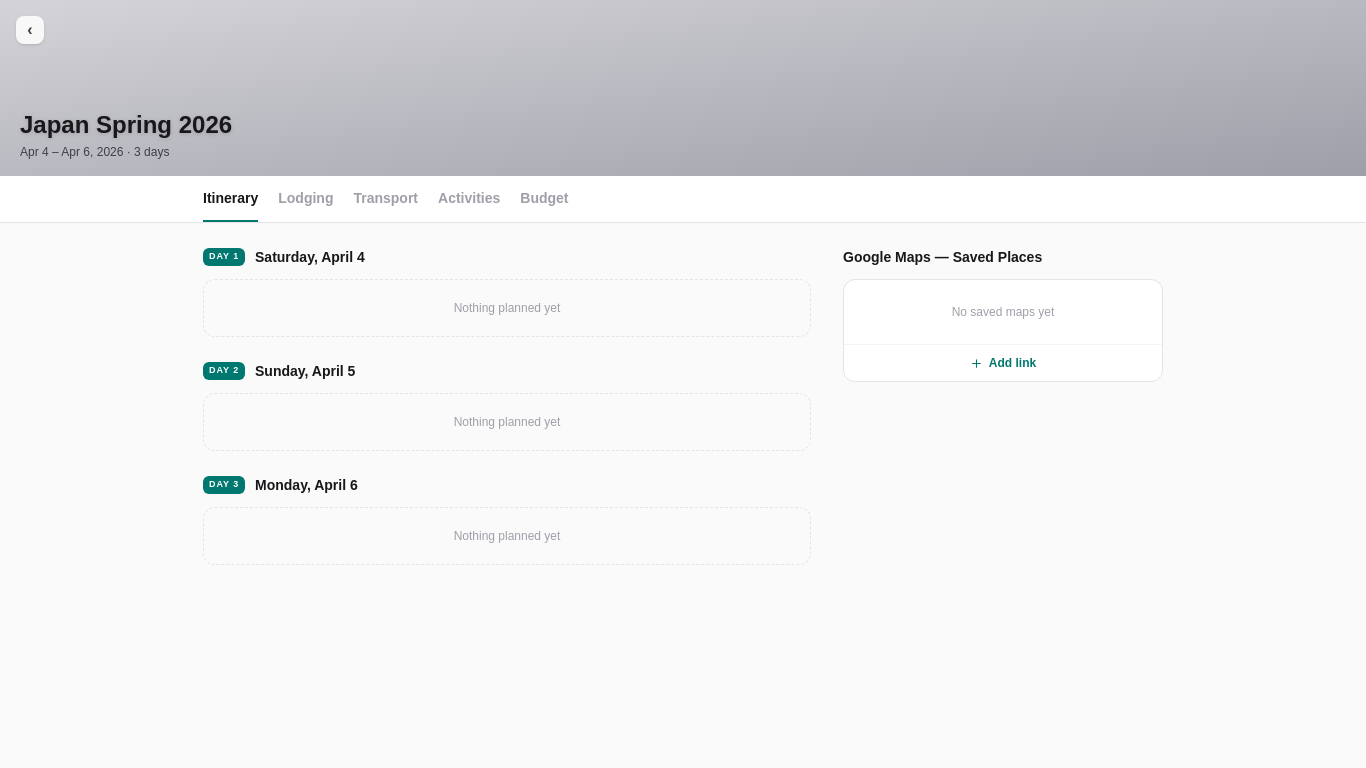
TripPage — saved map links › rejects a non-https url with an inline error
Check: the text "No saved maps yet" is shown, box [952, 305, 1054, 319]
Click the button "Add link" at [1003, 362], box [844, 344, 1162, 381]
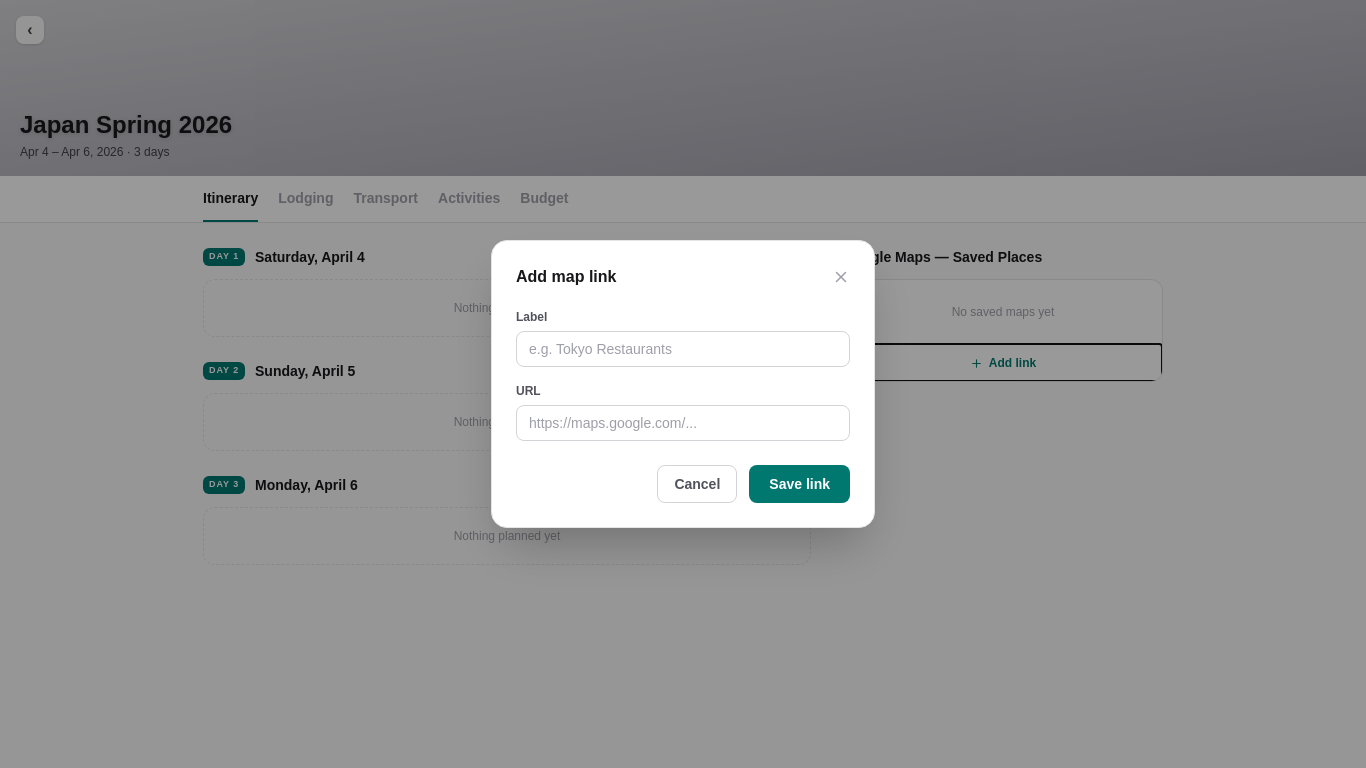
Type "Bad Link" into the field with placeholder "e.g. Tokyo Restaurants" at [683, 349], box [516, 331, 850, 367]
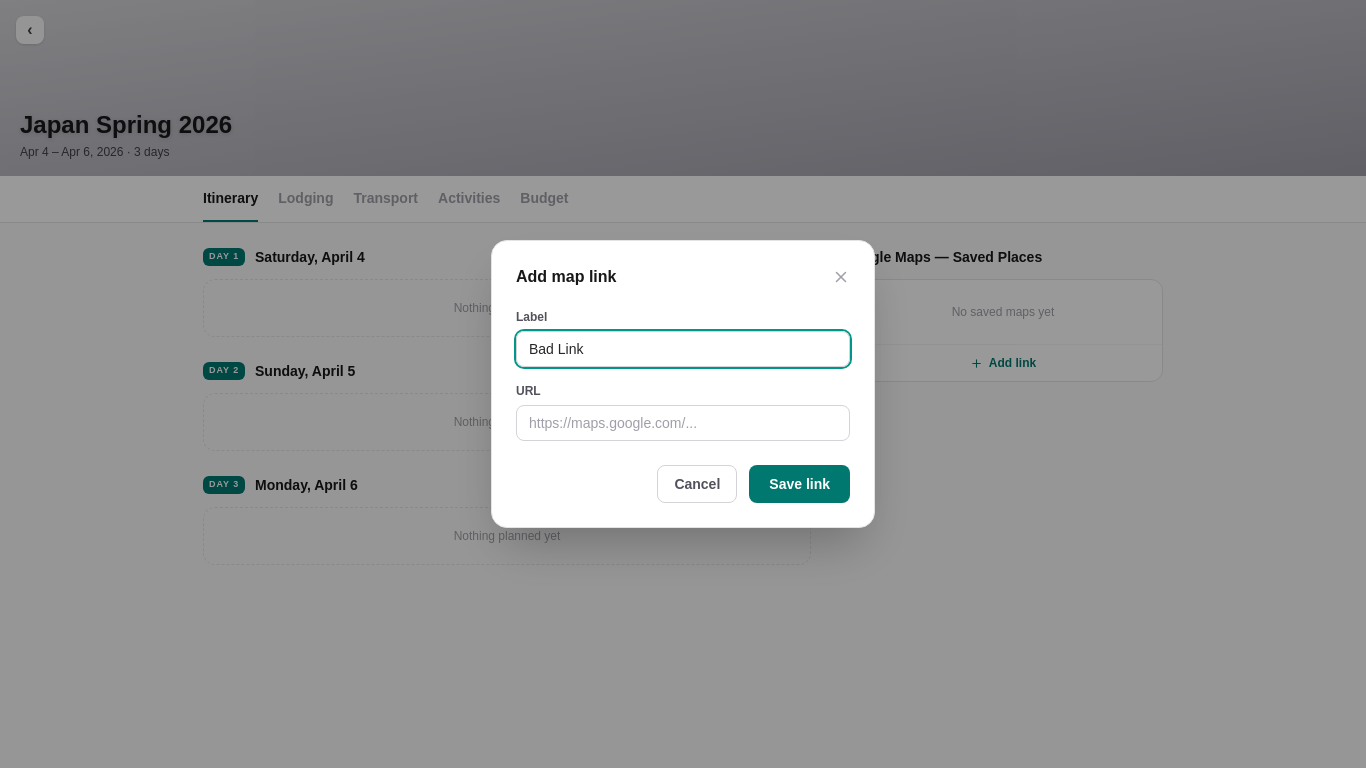
Type "http://maps.google.com/foo" into the field with placeholder "https://maps.google.com/..." at [683, 423], box [516, 405, 850, 441]
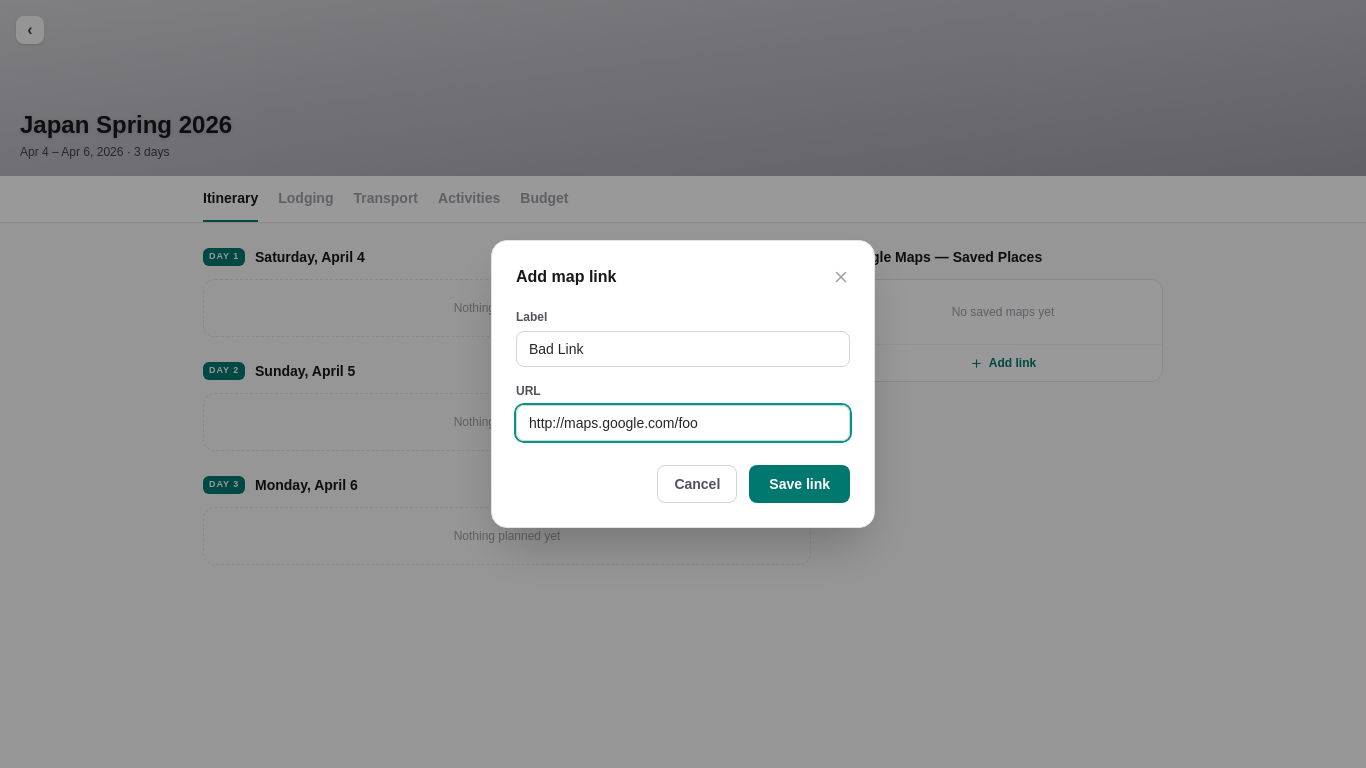
Click the button "Save link" at [800, 484], box [749, 465, 850, 503]
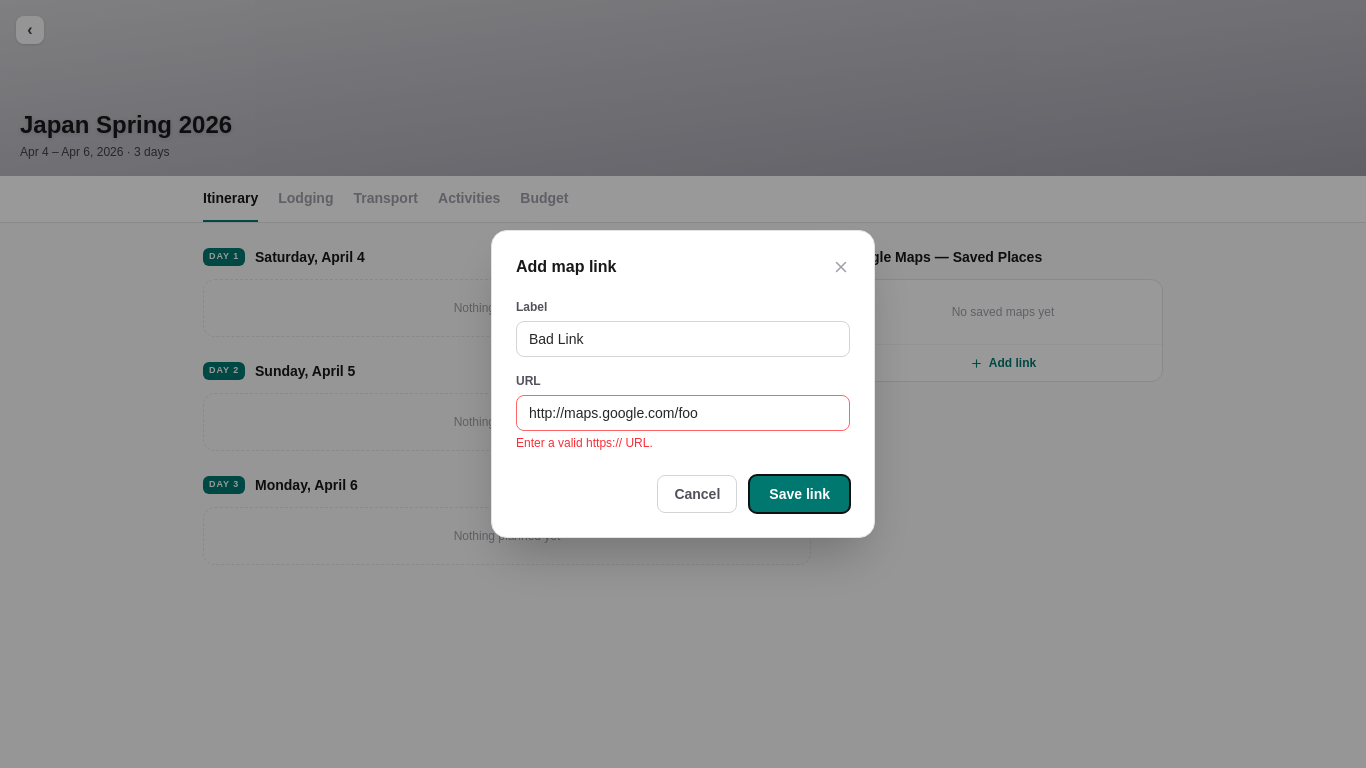
Check: the text "Enter a valid https:// URL." is shown, box [516, 436, 653, 450]
